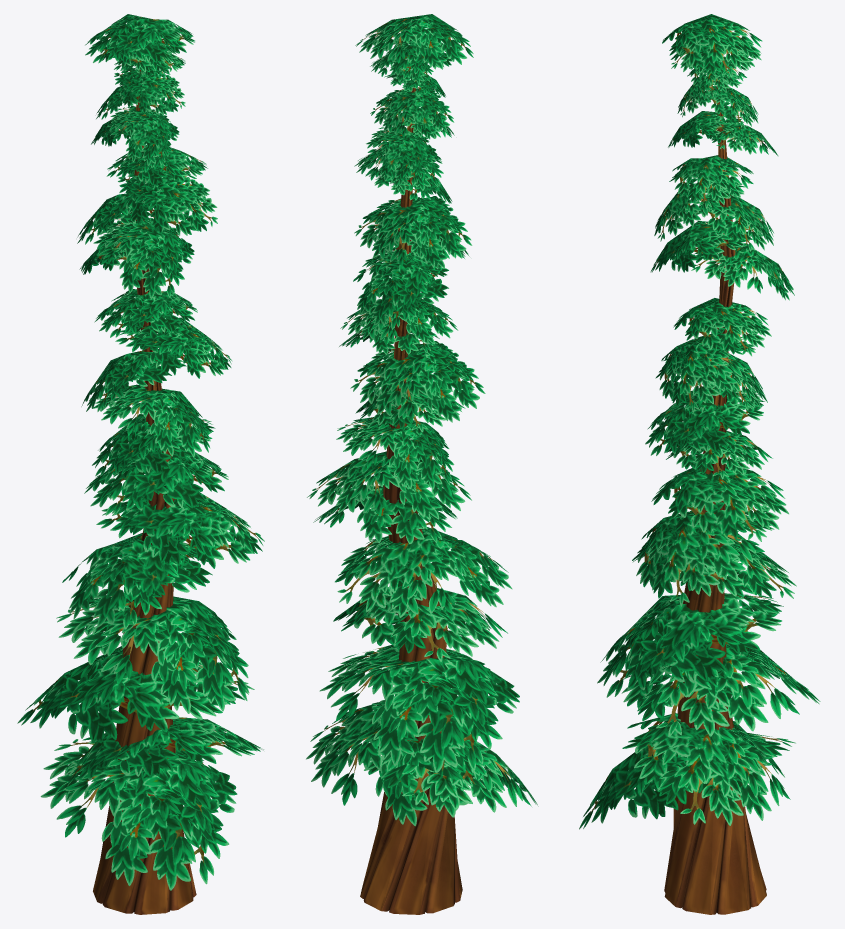
Rendered from 8_Verde_Oscuro.fbx.
3 renders of one model, left to right at view 1: azimuth 30°, elevation 25°; view 2: azimuth 150°, elevation 25°; view 3: azimuth 270°, elevation 25°, orthographic.
Parts seen in each view (by area): view 1: 8_Verde_Oscuro; view 2: 8_Verde_Oscuro; view 3: 8_Verde_Oscuro.
Part boxes in pixels (x1,y1,x2,y2): 8_Verde_Oscuro: (17,14,264,914); 8_Verde_Oscuro: (306,14,538,914); 8_Verde_Oscuro: (579,14,820,914).
Size of the model in its own units: 735 by 2730 by 727.
